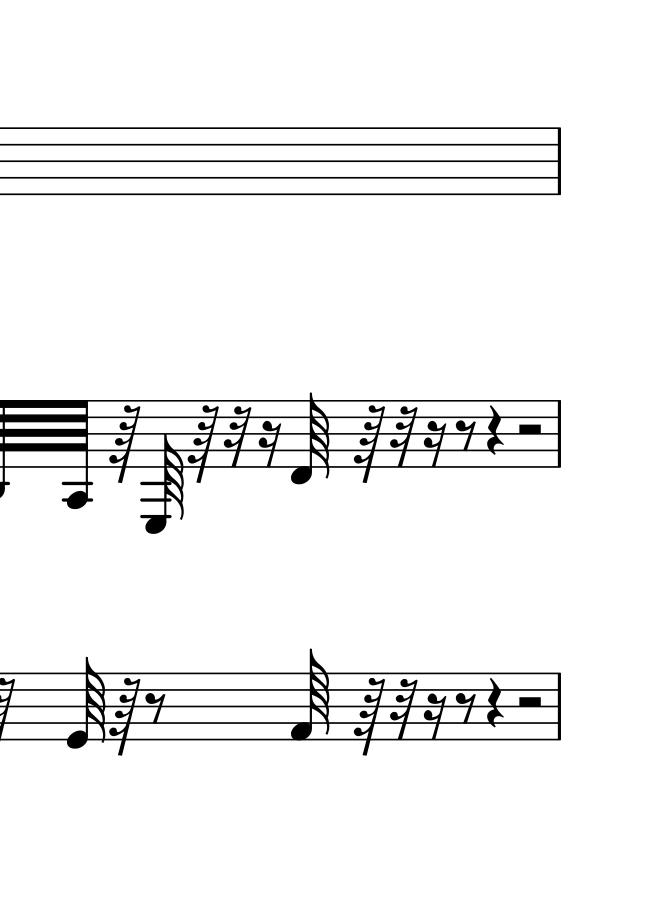64_-1: (289, 393, 328, 486)
64_-4: (65, 398, 93, 508)
64_-7: (144, 400, 186, 535)
64_0: (65, 656, 110, 750)
64_1: (288, 649, 329, 744)
Rests16: (423, 419, 447, 469), (423, 692, 447, 742), (258, 419, 281, 469)
Rests2: (515, 420, 545, 440), (516, 693, 545, 712)
Rests32: (389, 675, 419, 742), (389, 403, 418, 469), (223, 406, 252, 468)
Rests4: (484, 404, 503, 457), (484, 677, 503, 730)
Rests64: (353, 676, 387, 756), (109, 403, 142, 485), (188, 404, 220, 484), (354, 403, 386, 483), (110, 678, 141, 757)
Rests8: (143, 691, 166, 725), (455, 690, 476, 724), (455, 418, 476, 451)
Single_barline: (550, 673, 568, 740), (551, 400, 567, 467), (551, 128, 567, 194)
